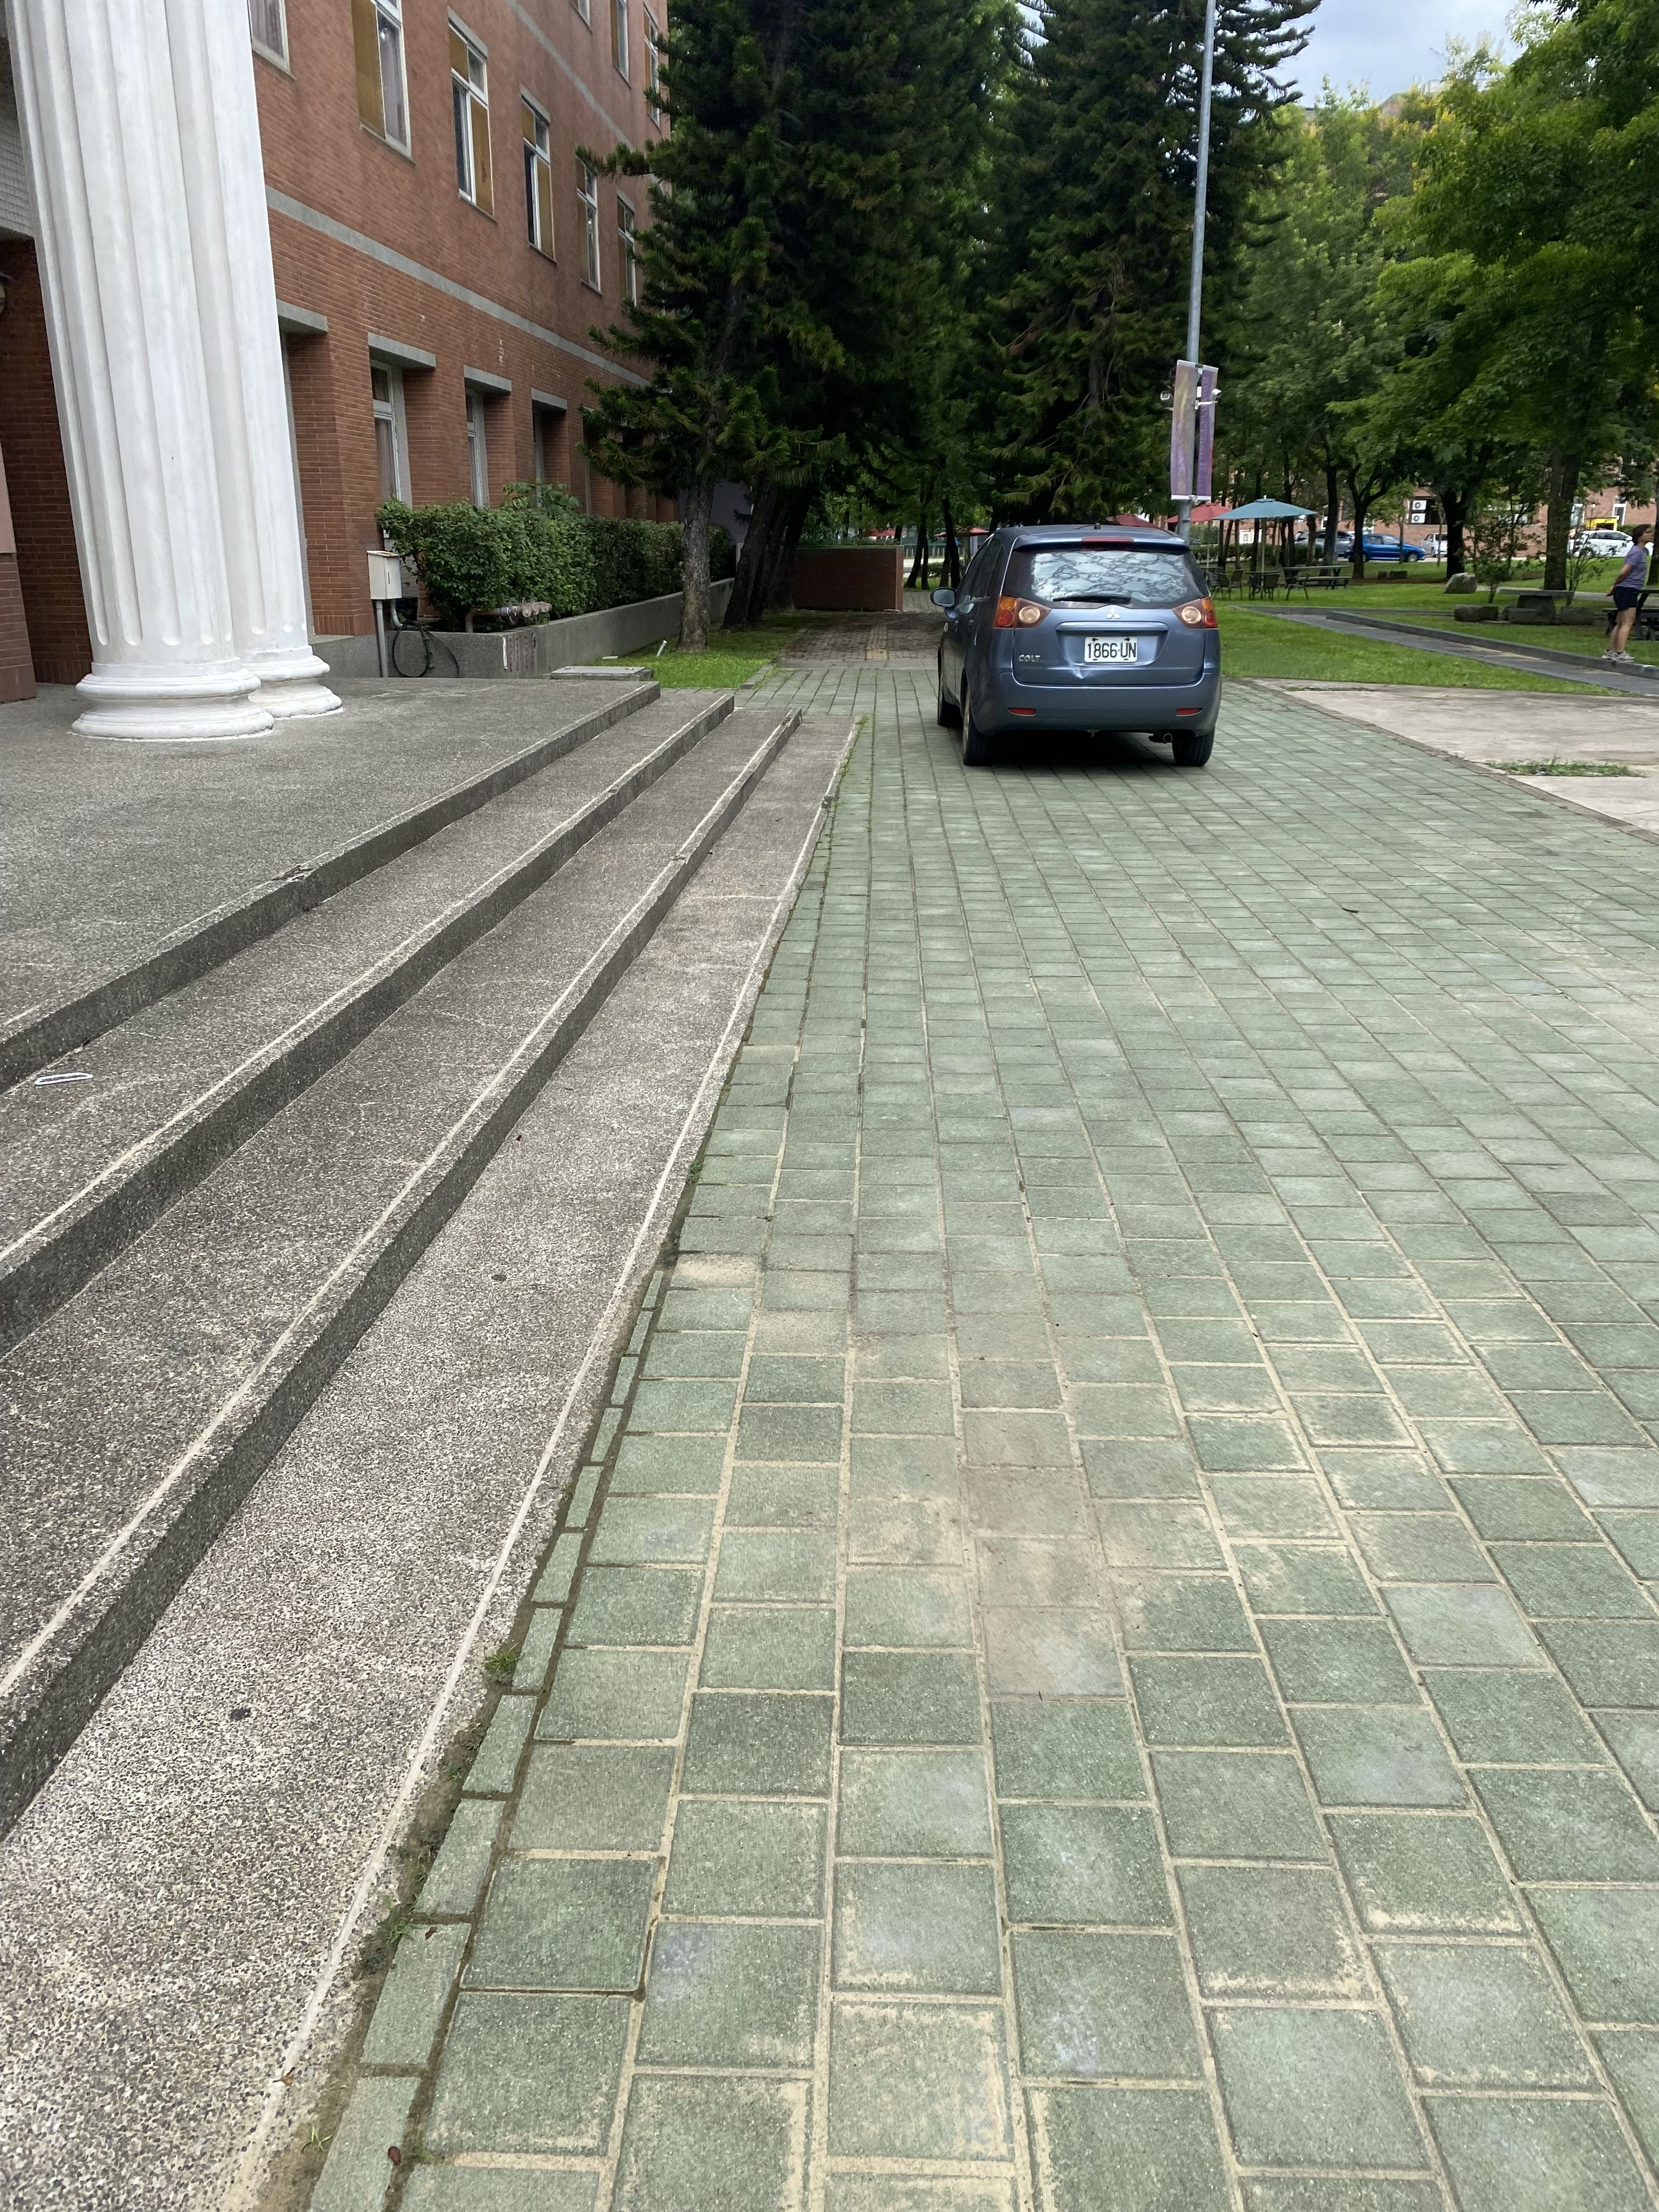sidewalk: (331, 634, 1659, 2212)
